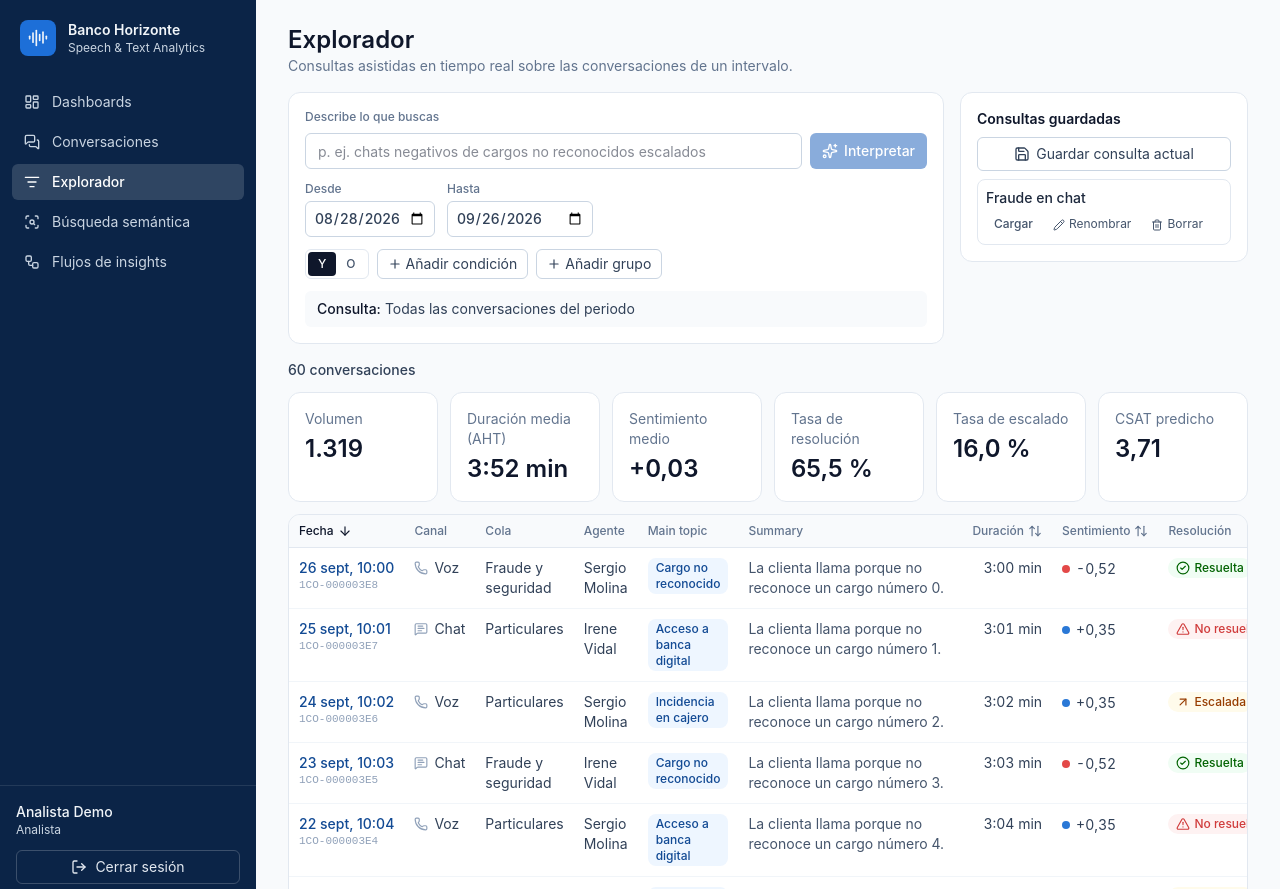
Test case: consultas guardadas › renombra y borra con confirmación
The image size is (1280, 889).
Click the button "Renombrar". click: {"x": 1092, "y": 224}
box: [1045,212,1139,236]
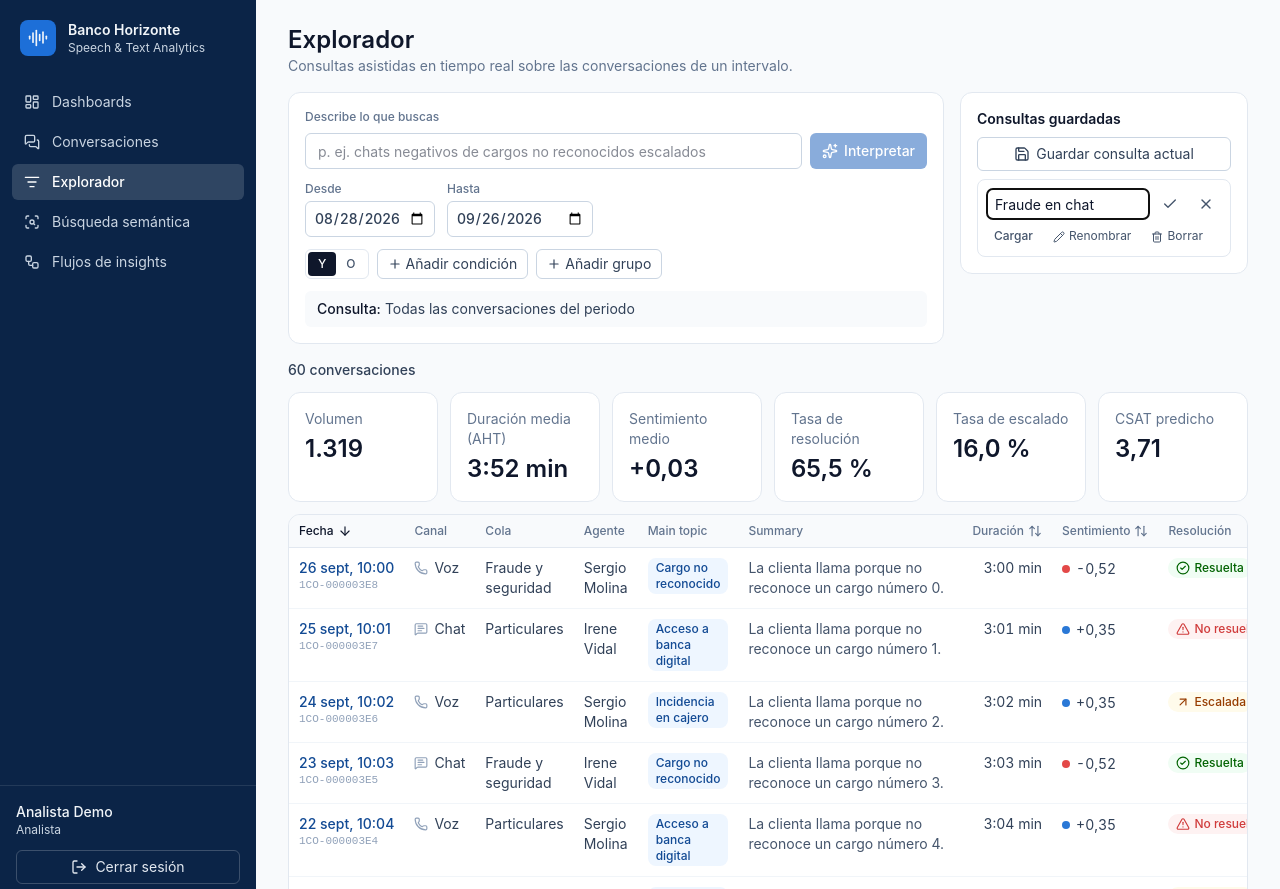
Replace the text in the field named "Nuevo nombre" with "Fraude escalado". click: {"x": 1068, "y": 204}
box: [986,188,1150,220]
Then press Enter
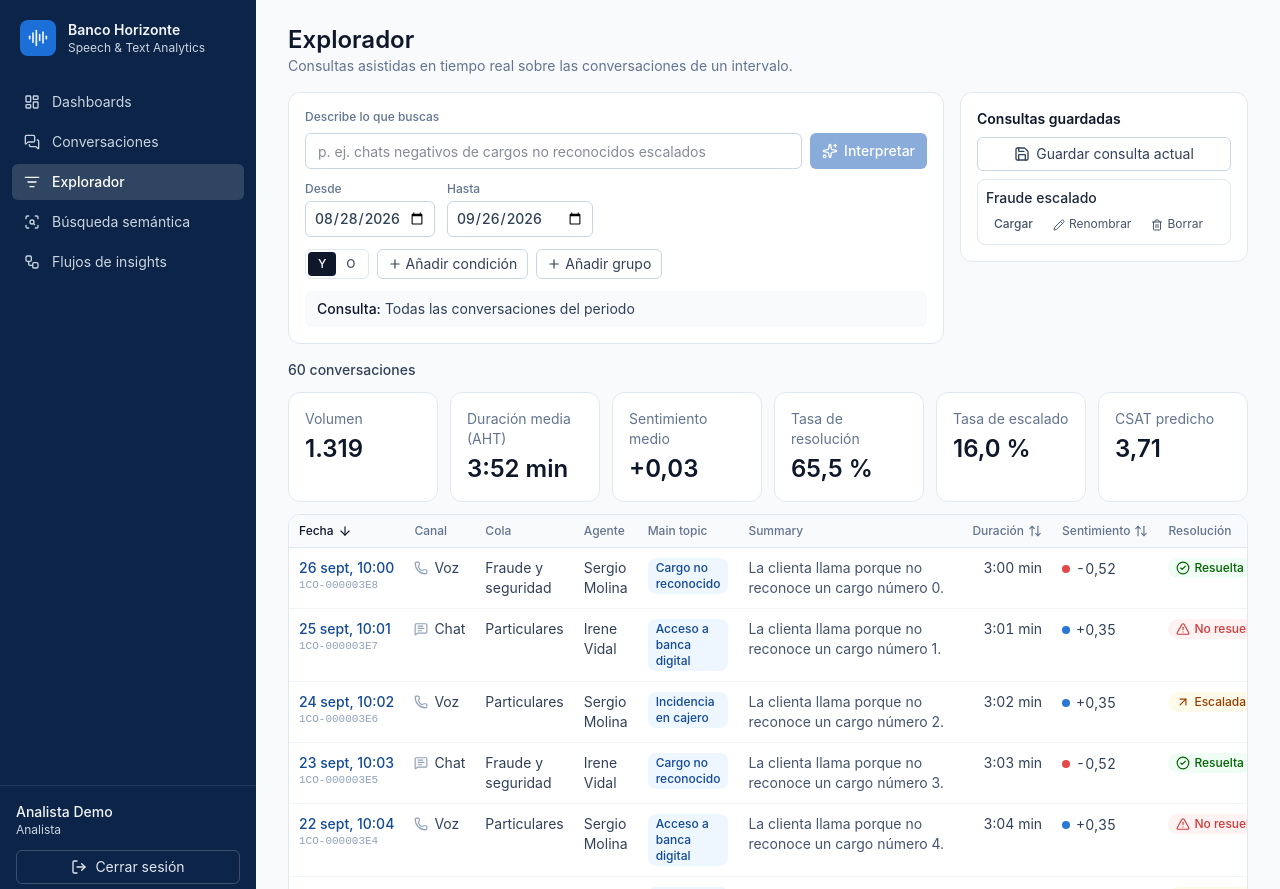
Check: the text "Fraude escalado" is shown, box [986,189,1097,206]
Click the button "Borrar". click: {"x": 1177, "y": 224}
box: [1143,212,1211,236]
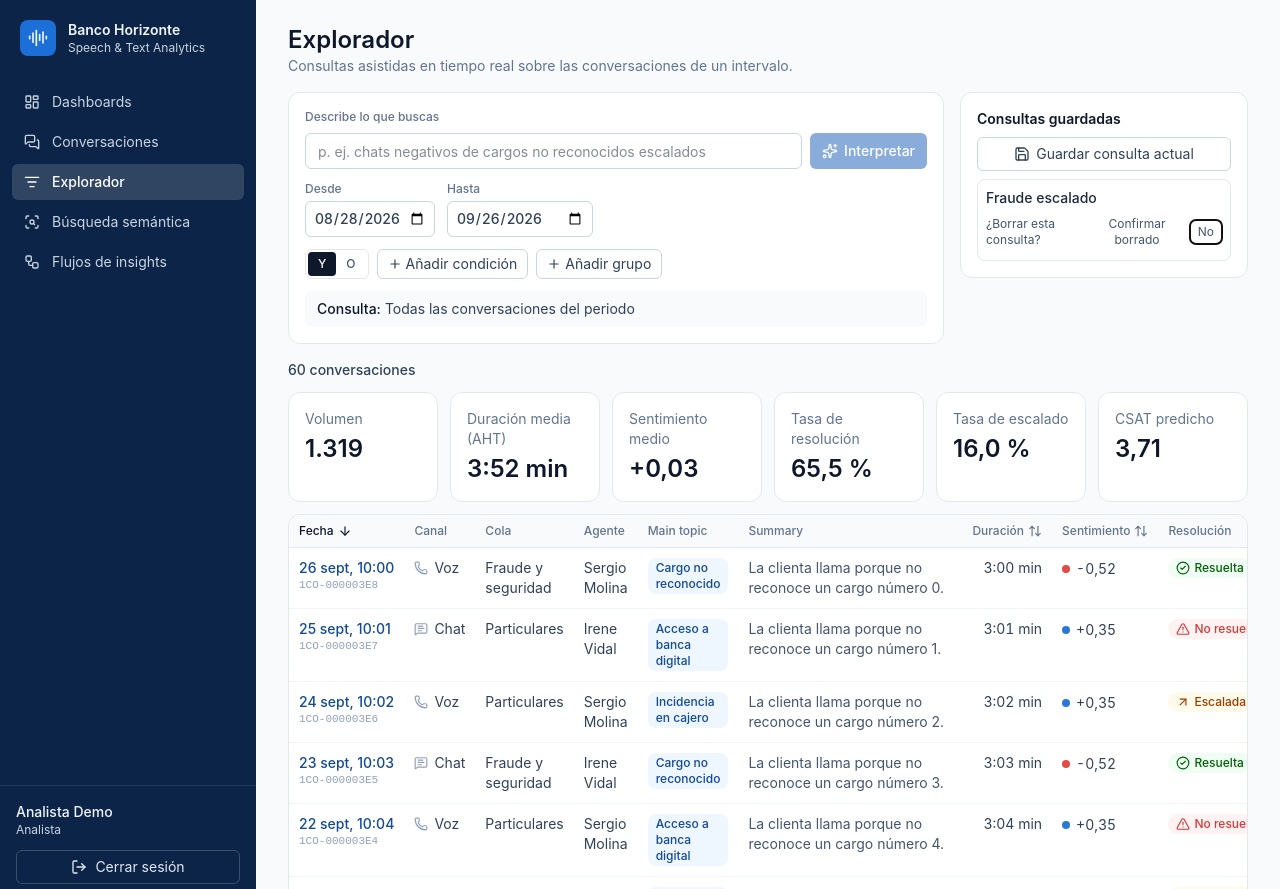
Click the button "Confirmar borrado". click: {"x": 1137, "y": 232}
box: [1088,212,1186,252]
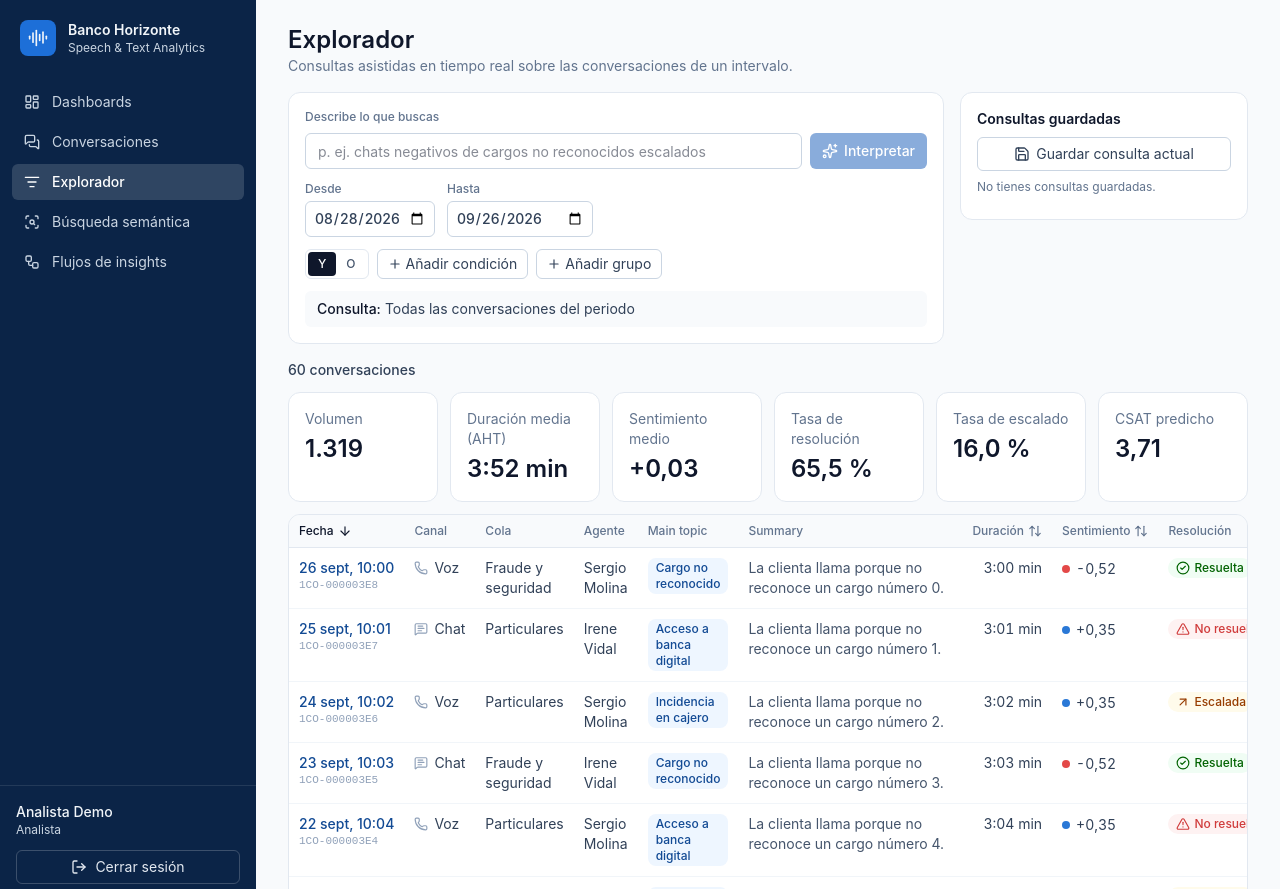
Check: the text "No tienes consultas guardadas." is shown, box [977,179,1156,194]
